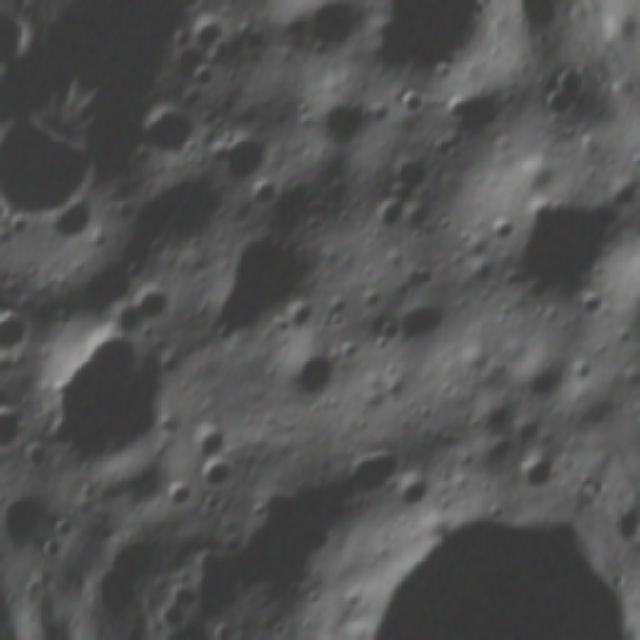crater: (466, 138, 640, 328), (29, 320, 192, 485), (188, 215, 334, 370), (558, 200, 640, 394), (13, 118, 130, 247), (325, 418, 432, 528), (115, 82, 211, 176), (274, 0, 383, 78), (105, 265, 193, 357), (296, 78, 376, 160), (202, 126, 280, 200), (367, 138, 436, 207), (185, 444, 249, 510), (178, 0, 242, 65), (46, 495, 109, 556), (142, 466, 202, 528), (0, 294, 48, 368), (178, 412, 236, 470), (172, 49, 228, 108), (243, 170, 294, 222), (0, 395, 32, 455), (0, 392, 11, 488)
